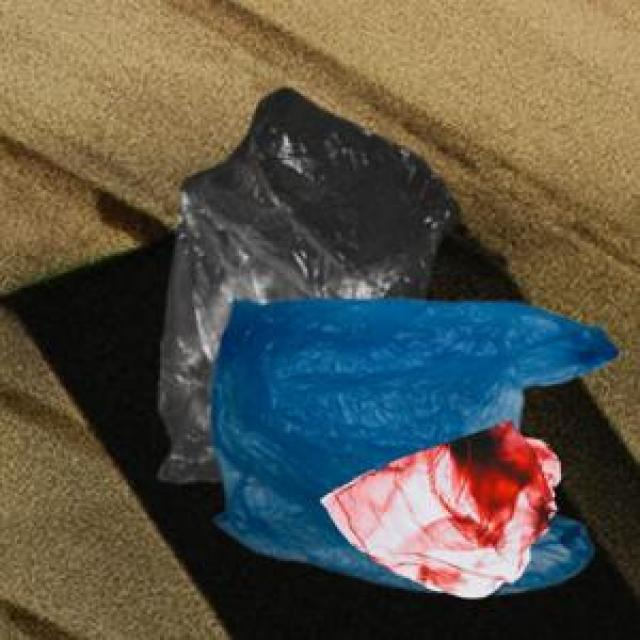Single-layer Plastic: (212, 300, 616, 589), (159, 89, 455, 482), (321, 422, 561, 598)
